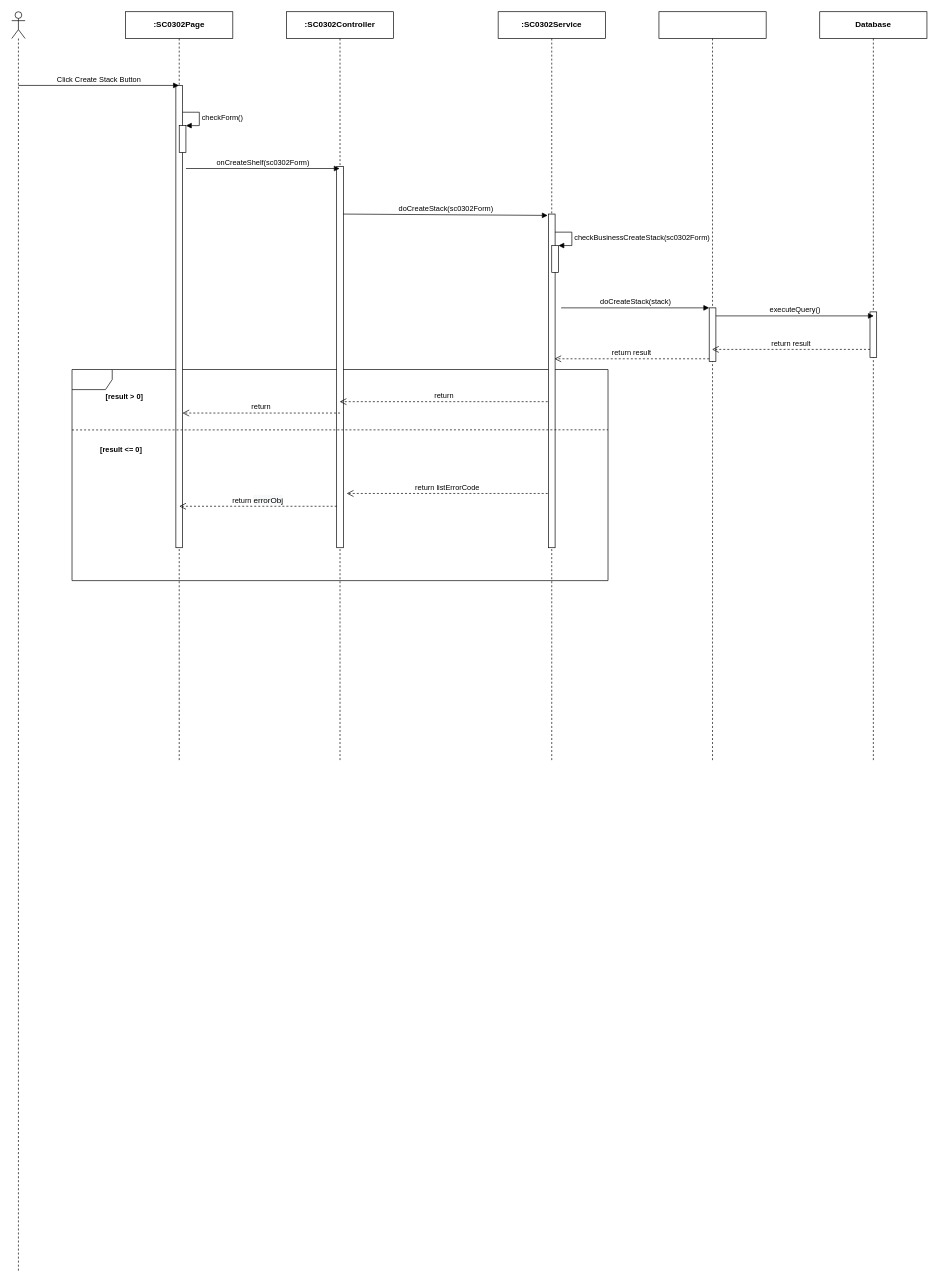
Some shapes in this 939 by 1283 pixel diagram are drawn without their labels. The box of each missing label's shape, as (x1, y1, x2, y2) in pixels:
:StackDao: (658, 11, 766, 762)
alt: (71, 369, 608, 581)
